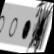correct: (20, 19, 33, 41)
